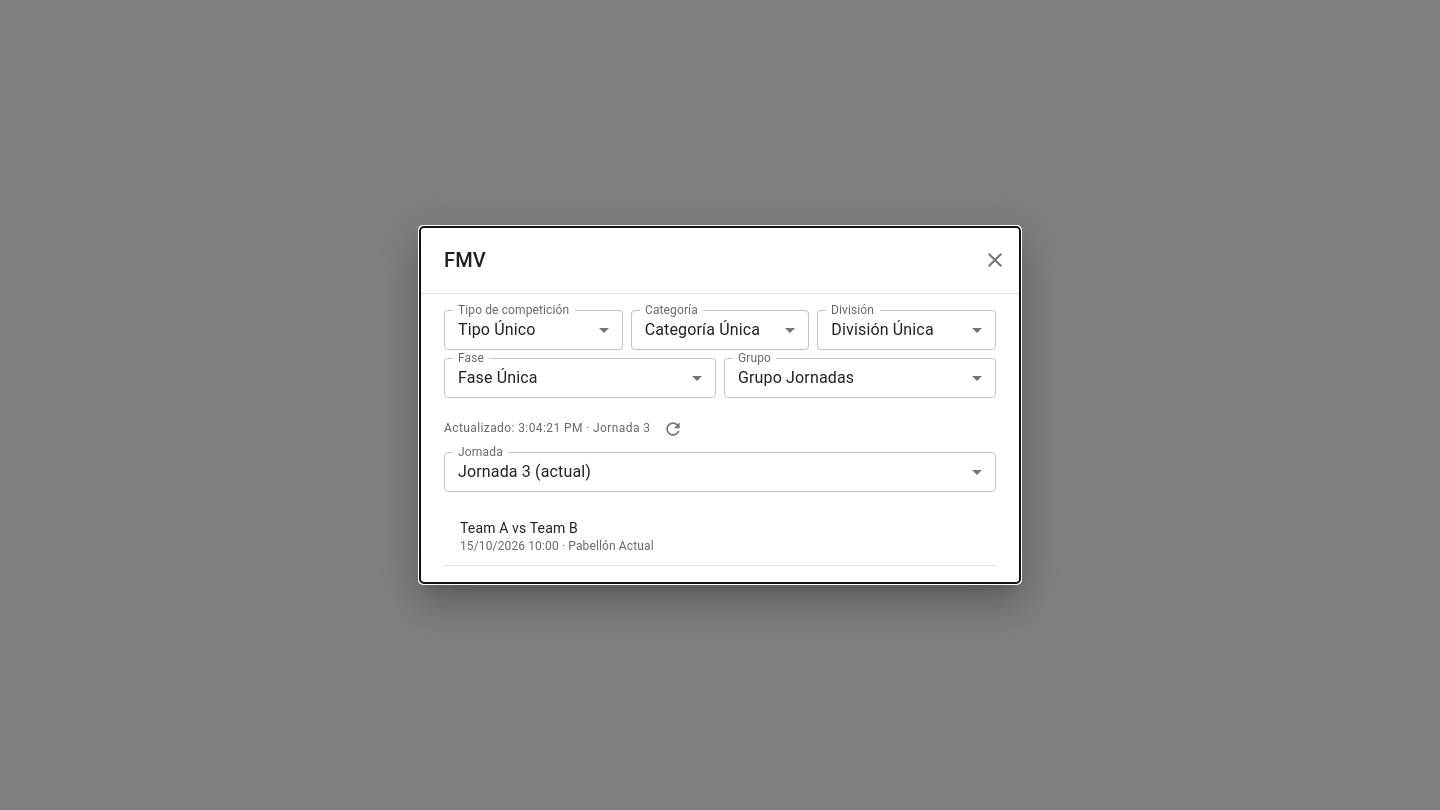
Test: MatchSelector jornada selection › opens on the current jornada and marks it in the dropdown
Check: the text "Team A vs Team B" is shown, box [460, 520, 578, 536]
Click the dropdown labelled "Jornada". click: x=524, y=472
box: [458, 462, 591, 481]
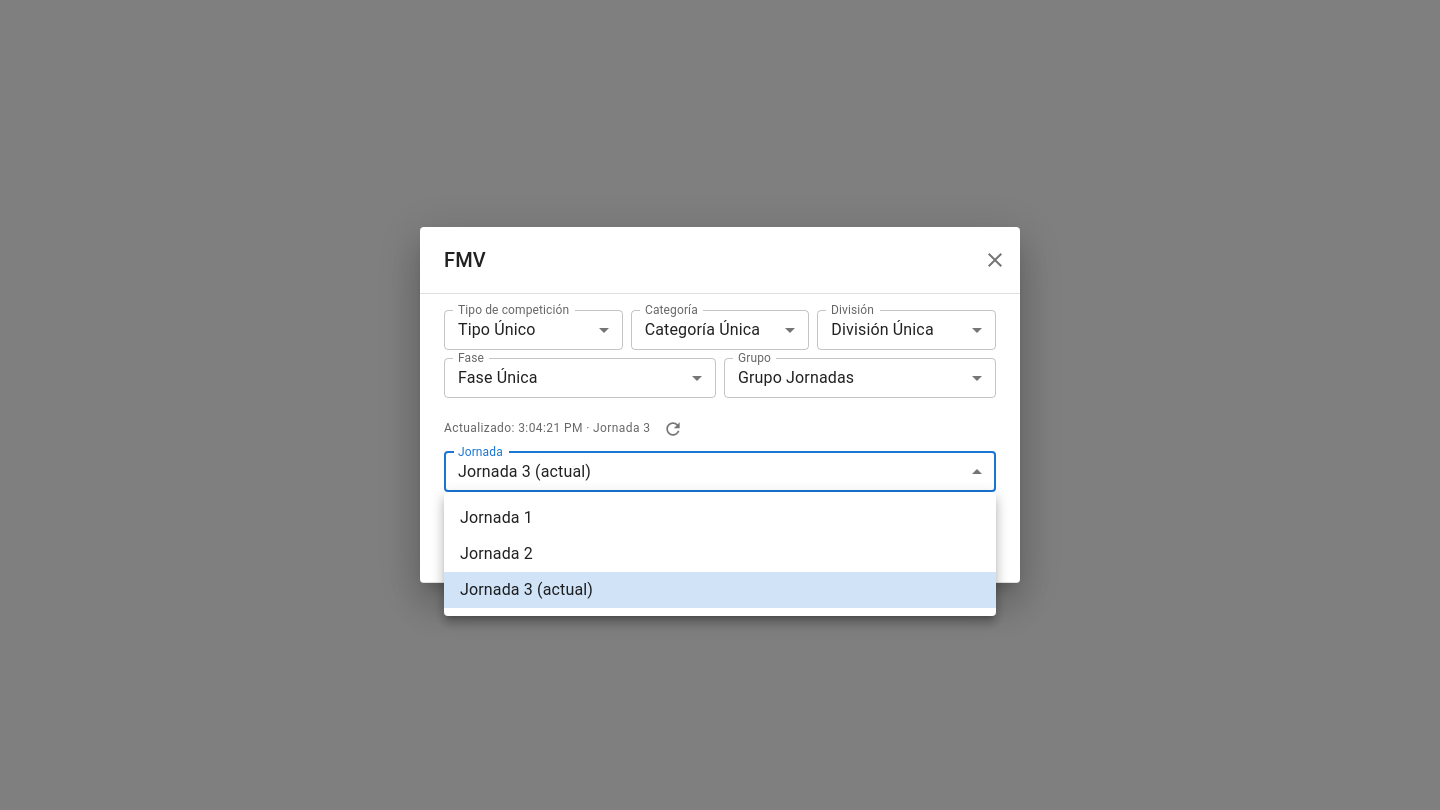
Check: the option "Jornada 1" is shown, box [460, 508, 533, 527]
Check: the option "Jornada 3 (actual)" is shown, box [444, 572, 996, 608]
